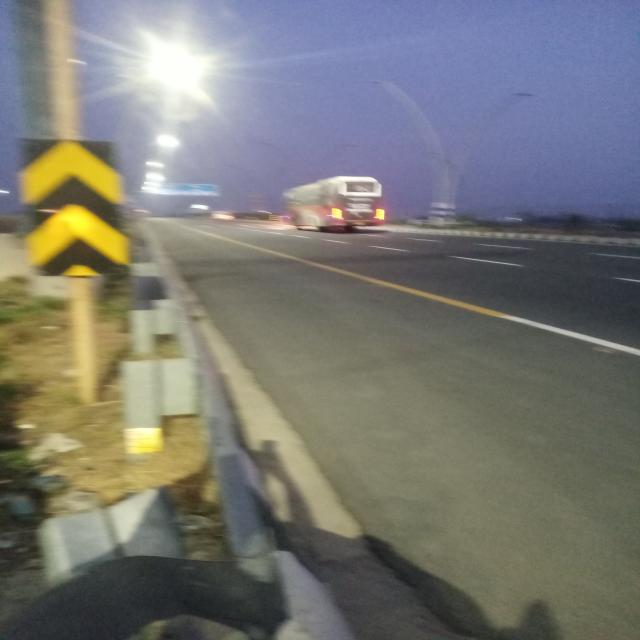Bus: (284, 176, 386, 230)
